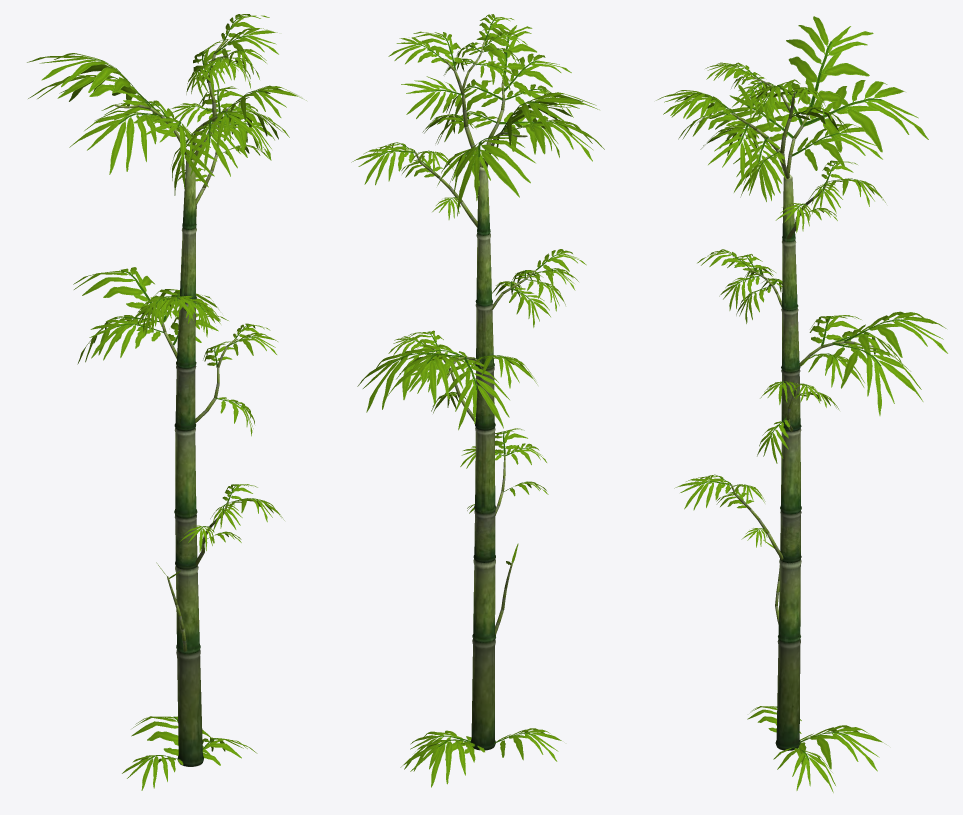
File: bamboo_c.glb
3 views of the same model, side by side, from view 1: azimuth 30°, elevation 25°; view 2: azimuth 150°, elevation 25°; view 3: azimuth 270°, elevation 25° (orthographic). The views are drawn at different scales.
Visible parts, largest first — view 1: Forest_bamboo_c; view 2: Forest_bamboo_c; view 3: Forest_bamboo_c.
Boxes of the visible parts, box(x1,y1,x2,y2) form: Forest_bamboo_c: box(27, 14, 306, 790); Forest_bamboo_c: box(351, 14, 604, 787); Forest_bamboo_c: box(656, 16, 947, 792).
Size of the model in its own units: 2.87 by 8.34 by 3.18.
3 materials, 3 textured.
